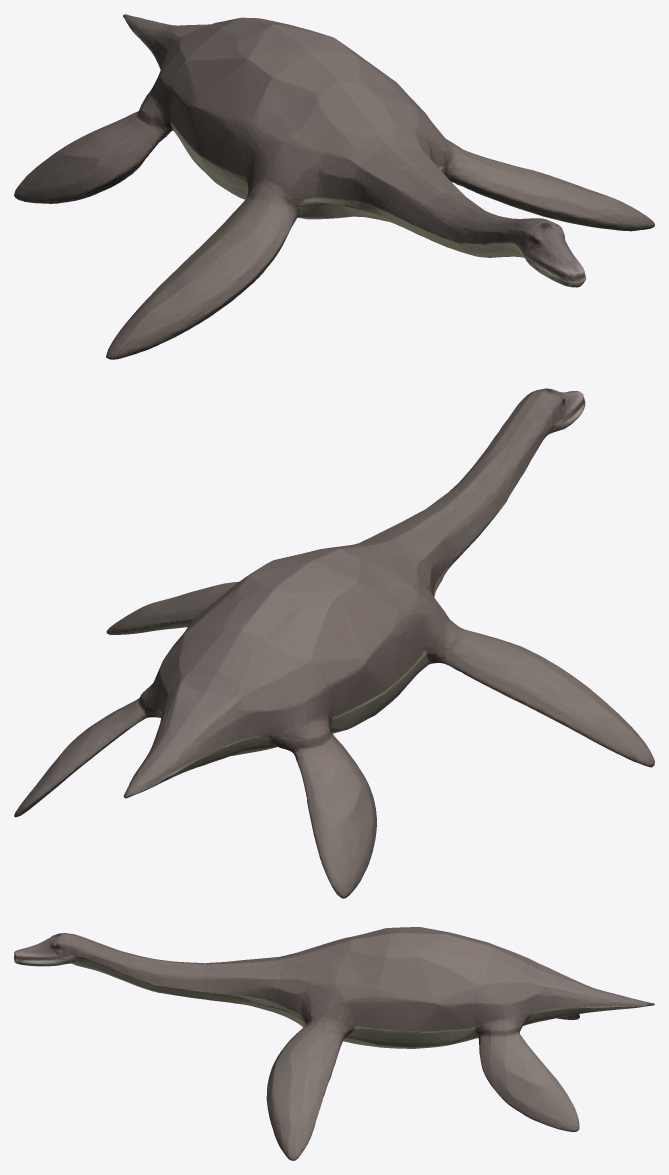
The picture shows the model from 3 angles, top to bottom: view 1: azimuth 30°, elevation 25°; view 2: azimuth 150°, elevation 25°; view 3: azimuth 270°, elevation 25°; orthographic projection. The views are drawn at different scales.
Visible parts, largest first — view 1: world; view 2: world; view 3: world.
Boxes of the visible parts, x1=… form: world: x1=14, y1=14, x2=654, y2=359; world: x1=14, y1=388, x2=654, y2=898; world: x1=14, y1=927, x2=654, y2=1160.
Bounding box in the file's own units: 0.6954 × 0.246 × 1.
Materials: 1 (1 with a texture image).
